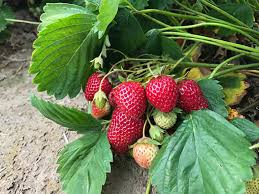ripe: (107, 111, 145, 155), (143, 73, 181, 110), (173, 78, 211, 112), (113, 80, 146, 118), (83, 67, 113, 100)
unripe: (133, 136, 162, 170), (151, 105, 178, 127), (88, 99, 110, 119), (148, 124, 168, 144), (95, 90, 105, 108), (93, 57, 101, 69)
